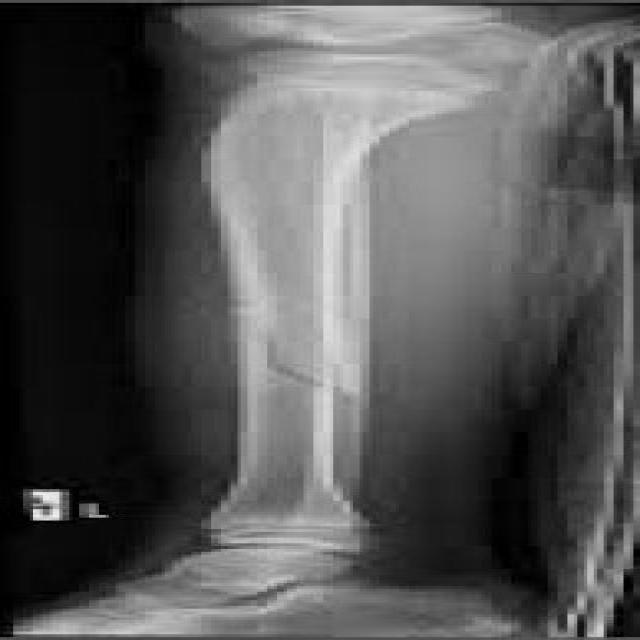Oblique: (141, 281, 465, 432)
